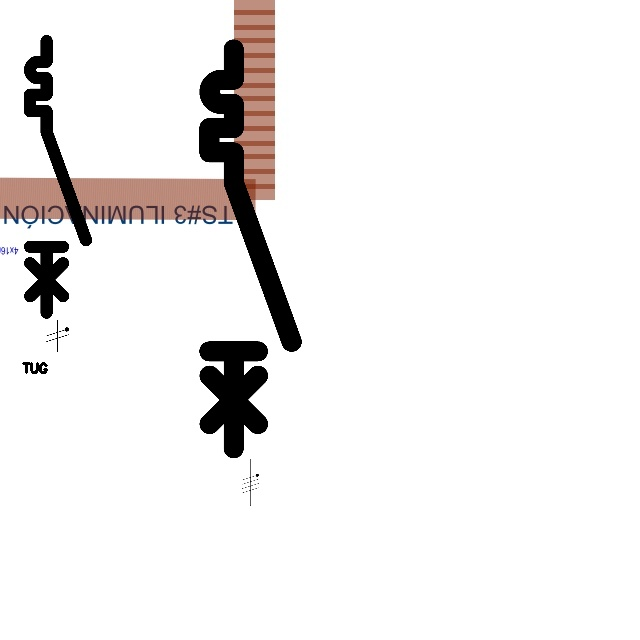interruptor_termomagnetico: (199, 39, 301, 459), (23, 34, 93, 320)
